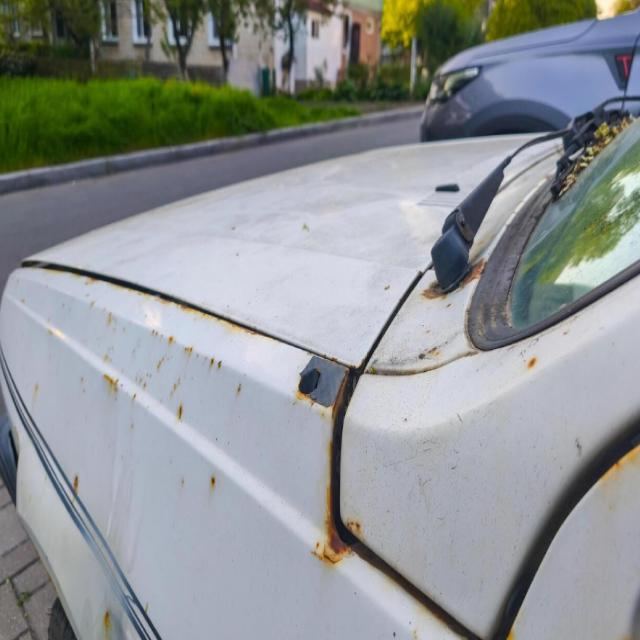Rust: (310, 378, 468, 636), (353, 542, 469, 637), (312, 376, 356, 565), (558, 118, 633, 198), (316, 446, 352, 564), (313, 481, 352, 564), (312, 507, 352, 565), (143, 294, 217, 320), (323, 515, 351, 564), (601, 447, 639, 481), (319, 377, 346, 419), (312, 542, 350, 565), (457, 260, 485, 289), (330, 376, 348, 421), (460, 258, 485, 288), (174, 303, 212, 320), (222, 321, 257, 335), (601, 459, 623, 481), (422, 280, 446, 299), (295, 389, 315, 406), (103, 374, 118, 395), (133, 290, 161, 301), (103, 611, 114, 639), (230, 324, 258, 335), (419, 347, 439, 360), (474, 235, 490, 251), (522, 338, 539, 353), (346, 520, 361, 537), (72, 475, 79, 503), (13, 428, 20, 456), (170, 379, 180, 397), (103, 611, 111, 633), (32, 384, 39, 409), (134, 290, 153, 298), (158, 297, 174, 306), (575, 438, 582, 458), (50, 329, 64, 339), (324, 355, 339, 364), (461, 351, 479, 358), (427, 347, 439, 357), (105, 346, 113, 361), (73, 474, 79, 494), (527, 357, 537, 369), (85, 277, 98, 285), (157, 358, 164, 372), (135, 375, 144, 385), (185, 346, 193, 357), (80, 377, 85, 394), (69, 273, 83, 279), (177, 404, 182, 420), (34, 384, 39, 400), (103, 353, 110, 362), (507, 630, 514, 639), (168, 335, 174, 345), (108, 312, 113, 324), (175, 378, 181, 388), (237, 384, 242, 396), (151, 329, 158, 337), (369, 366, 376, 374), (315, 542, 320, 553), (210, 358, 215, 369), (211, 476, 215, 489), (419, 353, 426, 360), (450, 462, 457, 469), (302, 223, 308, 231), (321, 410, 326, 419), (151, 330, 157, 337), (90, 300, 96, 307), (414, 630, 418, 639), (622, 636, 634, 639), (563, 329, 569, 335), (145, 373, 152, 378), (130, 422, 134, 430), (143, 381, 147, 389), (120, 453, 124, 461), (446, 303, 452, 308), (48, 329, 53, 335), (217, 361, 221, 368), (80, 377, 84, 384), (145, 603, 148, 612), (181, 478, 184, 487), (293, 400, 297, 406), (21, 298, 25, 304), (132, 394, 136, 400), (132, 348, 135, 355), (122, 327, 126, 332), (425, 330, 431, 333), (160, 399, 163, 405), (47, 317, 50, 323), (385, 286, 389, 290), (231, 227, 236, 230), (62, 303, 65, 308), (197, 353, 200, 358)
Scratch: (456, 413, 463, 423), (451, 462, 457, 469)
